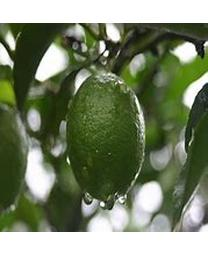lemon: (67, 73, 147, 209)
